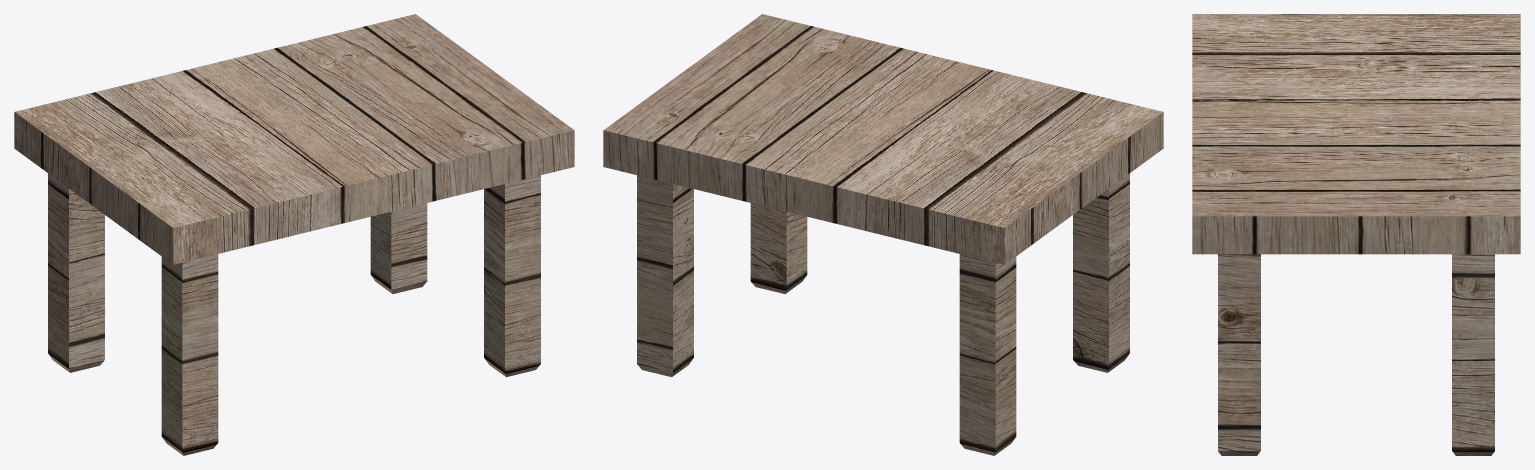
The model's file is table.obj.
3 views of the same model, side by side, from view 1: azimuth 30°, elevation 25°; view 2: azimuth 150°, elevation 25°; view 3: azimuth 270°, elevation 25° (orthographic). The views are drawn at different scales.
Parts seen in each view (by area): view 1: Cube_Cube.001; view 2: Cube_Cube.001; view 3: Cube_Cube.001.
Boxes of the visible parts, left/top/right/bottom form: Cube_Cube.001: left=14, top=14, right=574, bottom=455; Cube_Cube.001: left=603, top=14, right=1163, bottom=455; Cube_Cube.001: left=1192, top=14, right=1520, bottom=455.
Size of the model in its own units: 3.71 by 2.16 by 2.54.
